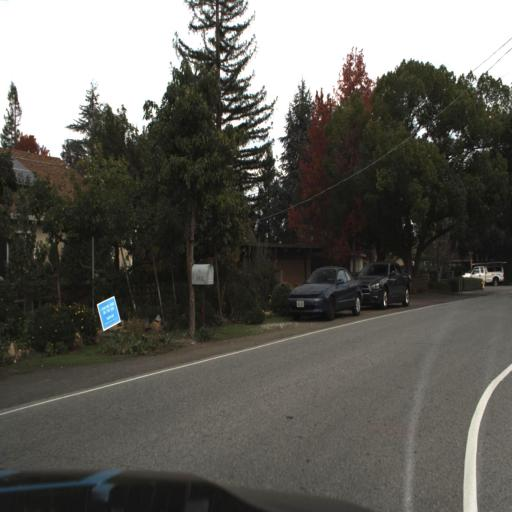car: (353, 255, 416, 320), (289, 265, 365, 317), (364, 259, 413, 317), (458, 260, 506, 291)
